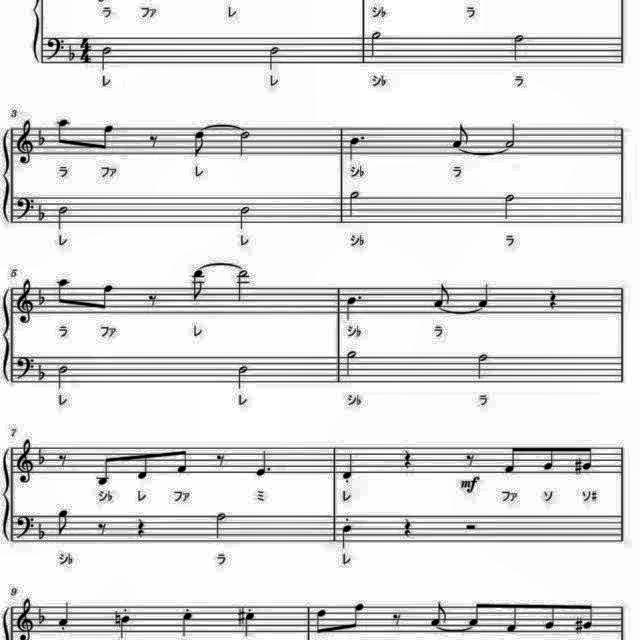Bass-clef: (12, 352, 36, 380), (12, 512, 36, 540), (12, 194, 36, 222), (44, 34, 68, 62)
Bemol: (34, 200, 50, 224), (36, 284, 48, 312), (35, 358, 49, 382), (34, 448, 50, 468), (36, 516, 48, 542), (34, 125, 48, 147), (35, 604, 49, 626), (66, 44, 78, 64)
Diez: (570, 613, 582, 637)
Eighth-note: (91, 453, 115, 491), (94, 120, 118, 154), (94, 281, 118, 315), (53, 114, 75, 150), (345, 600, 367, 636), (540, 600, 562, 636), (501, 600, 521, 638), (425, 600, 451, 628), (430, 280, 456, 308), (54, 273, 74, 309), (134, 446, 154, 482), (188, 268, 208, 304), (174, 442, 194, 476), (501, 443, 521, 477), (580, 599, 600, 633), (448, 122, 472, 150), (540, 440, 560, 472), (313, 606, 332, 638), (188, 128, 208, 158), (468, 600, 488, 630), (579, 441, 597, 473), (55, 507, 73, 538)
Eighth-rest: (144, 130, 164, 154), (387, 608, 405, 632), (144, 290, 162, 310), (461, 450, 479, 470), (94, 518, 110, 540), (56, 450, 72, 470), (212, 450, 228, 470)
Half-note: (234, 268, 254, 306), (365, 28, 385, 61), (54, 202, 74, 234), (344, 188, 364, 220), (510, 32, 530, 64), (498, 190, 518, 222), (212, 512, 232, 544), (472, 348, 492, 380), (342, 347, 362, 377), (236, 126, 254, 158), (55, 361, 73, 391), (501, 120, 519, 150), (267, 43, 285, 73), (235, 363, 253, 393), (236, 201, 254, 231), (98, 42, 115, 72)
Half-rest: (460, 520, 480, 534)
Quarter-dot: (346, 132, 370, 164), (342, 290, 366, 322), (253, 449, 275, 479)
Quarter-note: (180, 607, 200, 640), (340, 450, 360, 482), (56, 600, 74, 634), (243, 604, 259, 640), (475, 280, 495, 308), (116, 612, 136, 640), (339, 522, 356, 550)
Quarter-rest: (399, 446, 415, 470), (401, 518, 417, 542), (546, 288, 562, 312), (134, 515, 150, 539)
Treble-clef: (12, 276, 36, 326), (12, 118, 36, 168), (13, 437, 35, 487), (15, 596, 37, 640)
